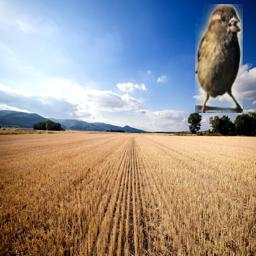Sparrow: (195, 4, 243, 113)
